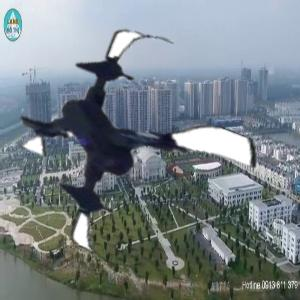drone: (12, 25, 260, 273)
